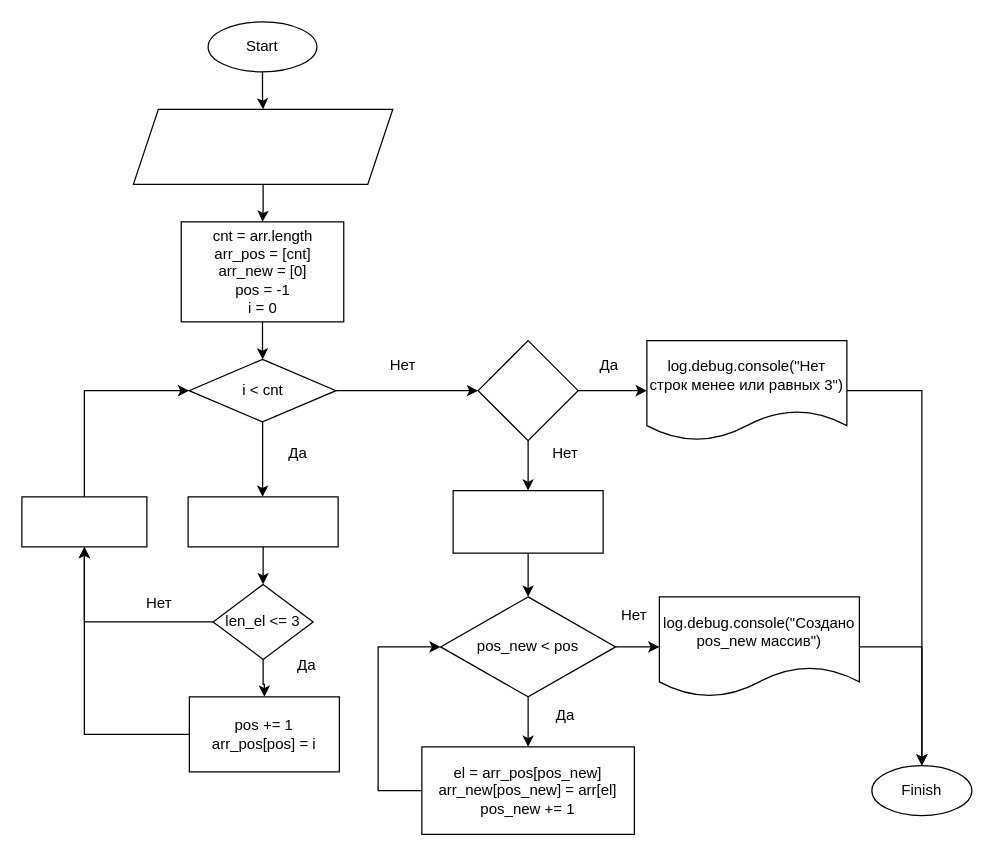
The diagram is 994 pixels wide and 856 high, and some of its shapes have lost their labels. The centre of each missing label's shape, as x and y in pixels:
arr = ["hello","2","world",":-)", ...]: pixel 262 146
i += 1: pixel 84 521
len_el = arr[i].length: pixel 262 521
pos += 1 arr_new = [pos] pos_new = 0: pixel 527 521
pos == -1: pixel 527 390
